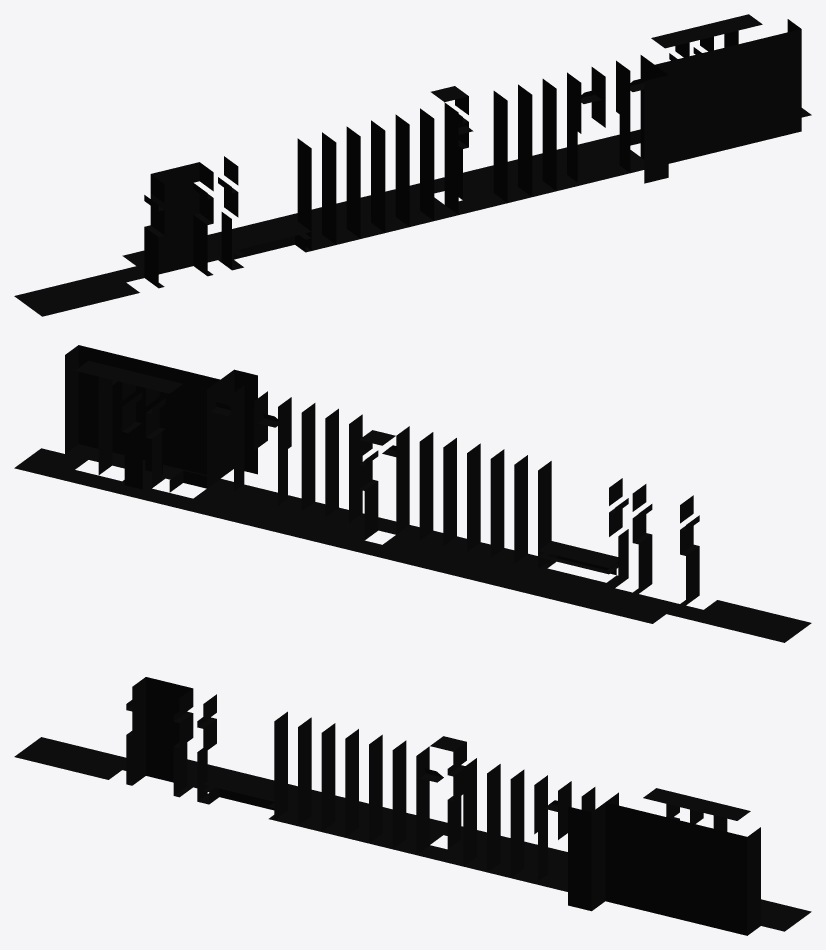
The model's file is catalog.obj.
3 views of the same model, one above another, from view 1: azimuth 30°, elevation 25°; view 2: azimuth 150°, elevation 25°; view 3: azimuth 330°, elevation 25° (orthographic). The views are drawn at different scales.
Visible parts, largest first — view 1: cell_6_0, cell_25_0, cell_1_0, cell_2_0, cell_3_0, cell_4_0, cell_5_0, cell_14_0, cell_13_0, cell_12_0, cell_16_0, cell_18_0 (+19 smaller); view 2: cell_6_0, cell_1_0, cell_5_0, cell_4_1, cell_14_1, cell_11_0, cell_2_1, cell_18_0, cell_15_0, cell_14_0, cell_17_0, cell_16_0 (+18 smaller); view 3: cell_6_0, cell_1_0, cell_26_0, cell_4_0, cell_3_0, cell_5_0, cell_2_0, cell_25_0, cell_14_0, cell_14_1, cell_18_0, cell_15_0 (+16 smaller).
Part boxes in pixels (bbox=[...]): cell_6_0: bbox=[640, 55, 679, 183]; cell_25_0: bbox=[175, 162, 213, 276]; cell_1_0: bbox=[777, 19, 801, 137]; cell_2_0: bbox=[752, 35, 776, 143]; cell_3_0: bbox=[728, 41, 752, 149]; cell_4_0: bbox=[703, 47, 727, 155]; cell_5_0: bbox=[679, 53, 703, 161]; cell_14_0: bbox=[444, 102, 482, 214]; cell_13_0: bbox=[469, 91, 507, 208]; cell_12_0: bbox=[507, 84, 532, 202]; cell_16_0: bbox=[395, 114, 433, 226]; cell_18_0: bbox=[346, 126, 384, 238]; cell_6_0: bbox=[196, 369, 257, 488]; cell_1_0: bbox=[65, 345, 102, 459]; cell_5_0: bbox=[162, 368, 196, 479]; cell_4_1: bbox=[122, 372, 162, 489]; cell_14_1: bbox=[359, 430, 395, 540]; cell_11_0: bbox=[301, 403, 325, 517]; cell_2_1: bbox=[75, 361, 112, 474]; cell_18_0: bbox=[467, 449, 504, 557]; cell_15_0: bbox=[396, 432, 433, 540]; cell_14_0: bbox=[378, 426, 409, 534]; cell_17_0: bbox=[444, 443, 480, 551]; cell_16_0: bbox=[420, 438, 456, 546]; cell_6_0: bbox=[568, 793, 628, 911]; cell_1_0: bbox=[723, 827, 760, 935]; cell_26_0: bbox=[132, 677, 169, 785]; cell_4_0: bbox=[652, 814, 676, 918]; cell_3_0: bbox=[676, 819, 699, 924]; cell_5_0: bbox=[629, 808, 652, 912]; cell_2_0: bbox=[700, 825, 723, 929]; cell_25_0: bbox=[169, 682, 193, 797]; cell_14_0: bbox=[416, 746, 452, 860]; cell_14_1: bbox=[430, 736, 466, 850]; cell_18_0: bbox=[321, 723, 345, 837]; cell_15_0: bbox=[392, 740, 416, 854].
Size of the model in its own units: 0.5 by 0.0625 by 0.0625.
28 materials, 28 textured.
